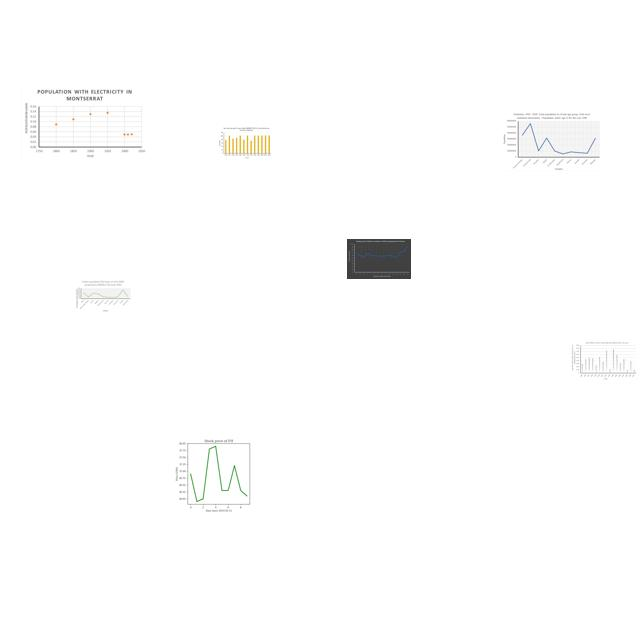Graph: (21, 86, 148, 161), (165, 434, 270, 513), (503, 112, 601, 171), (571, 341, 637, 380), (347, 239, 411, 279), (75, 280, 131, 312), (218, 127, 272, 159)
